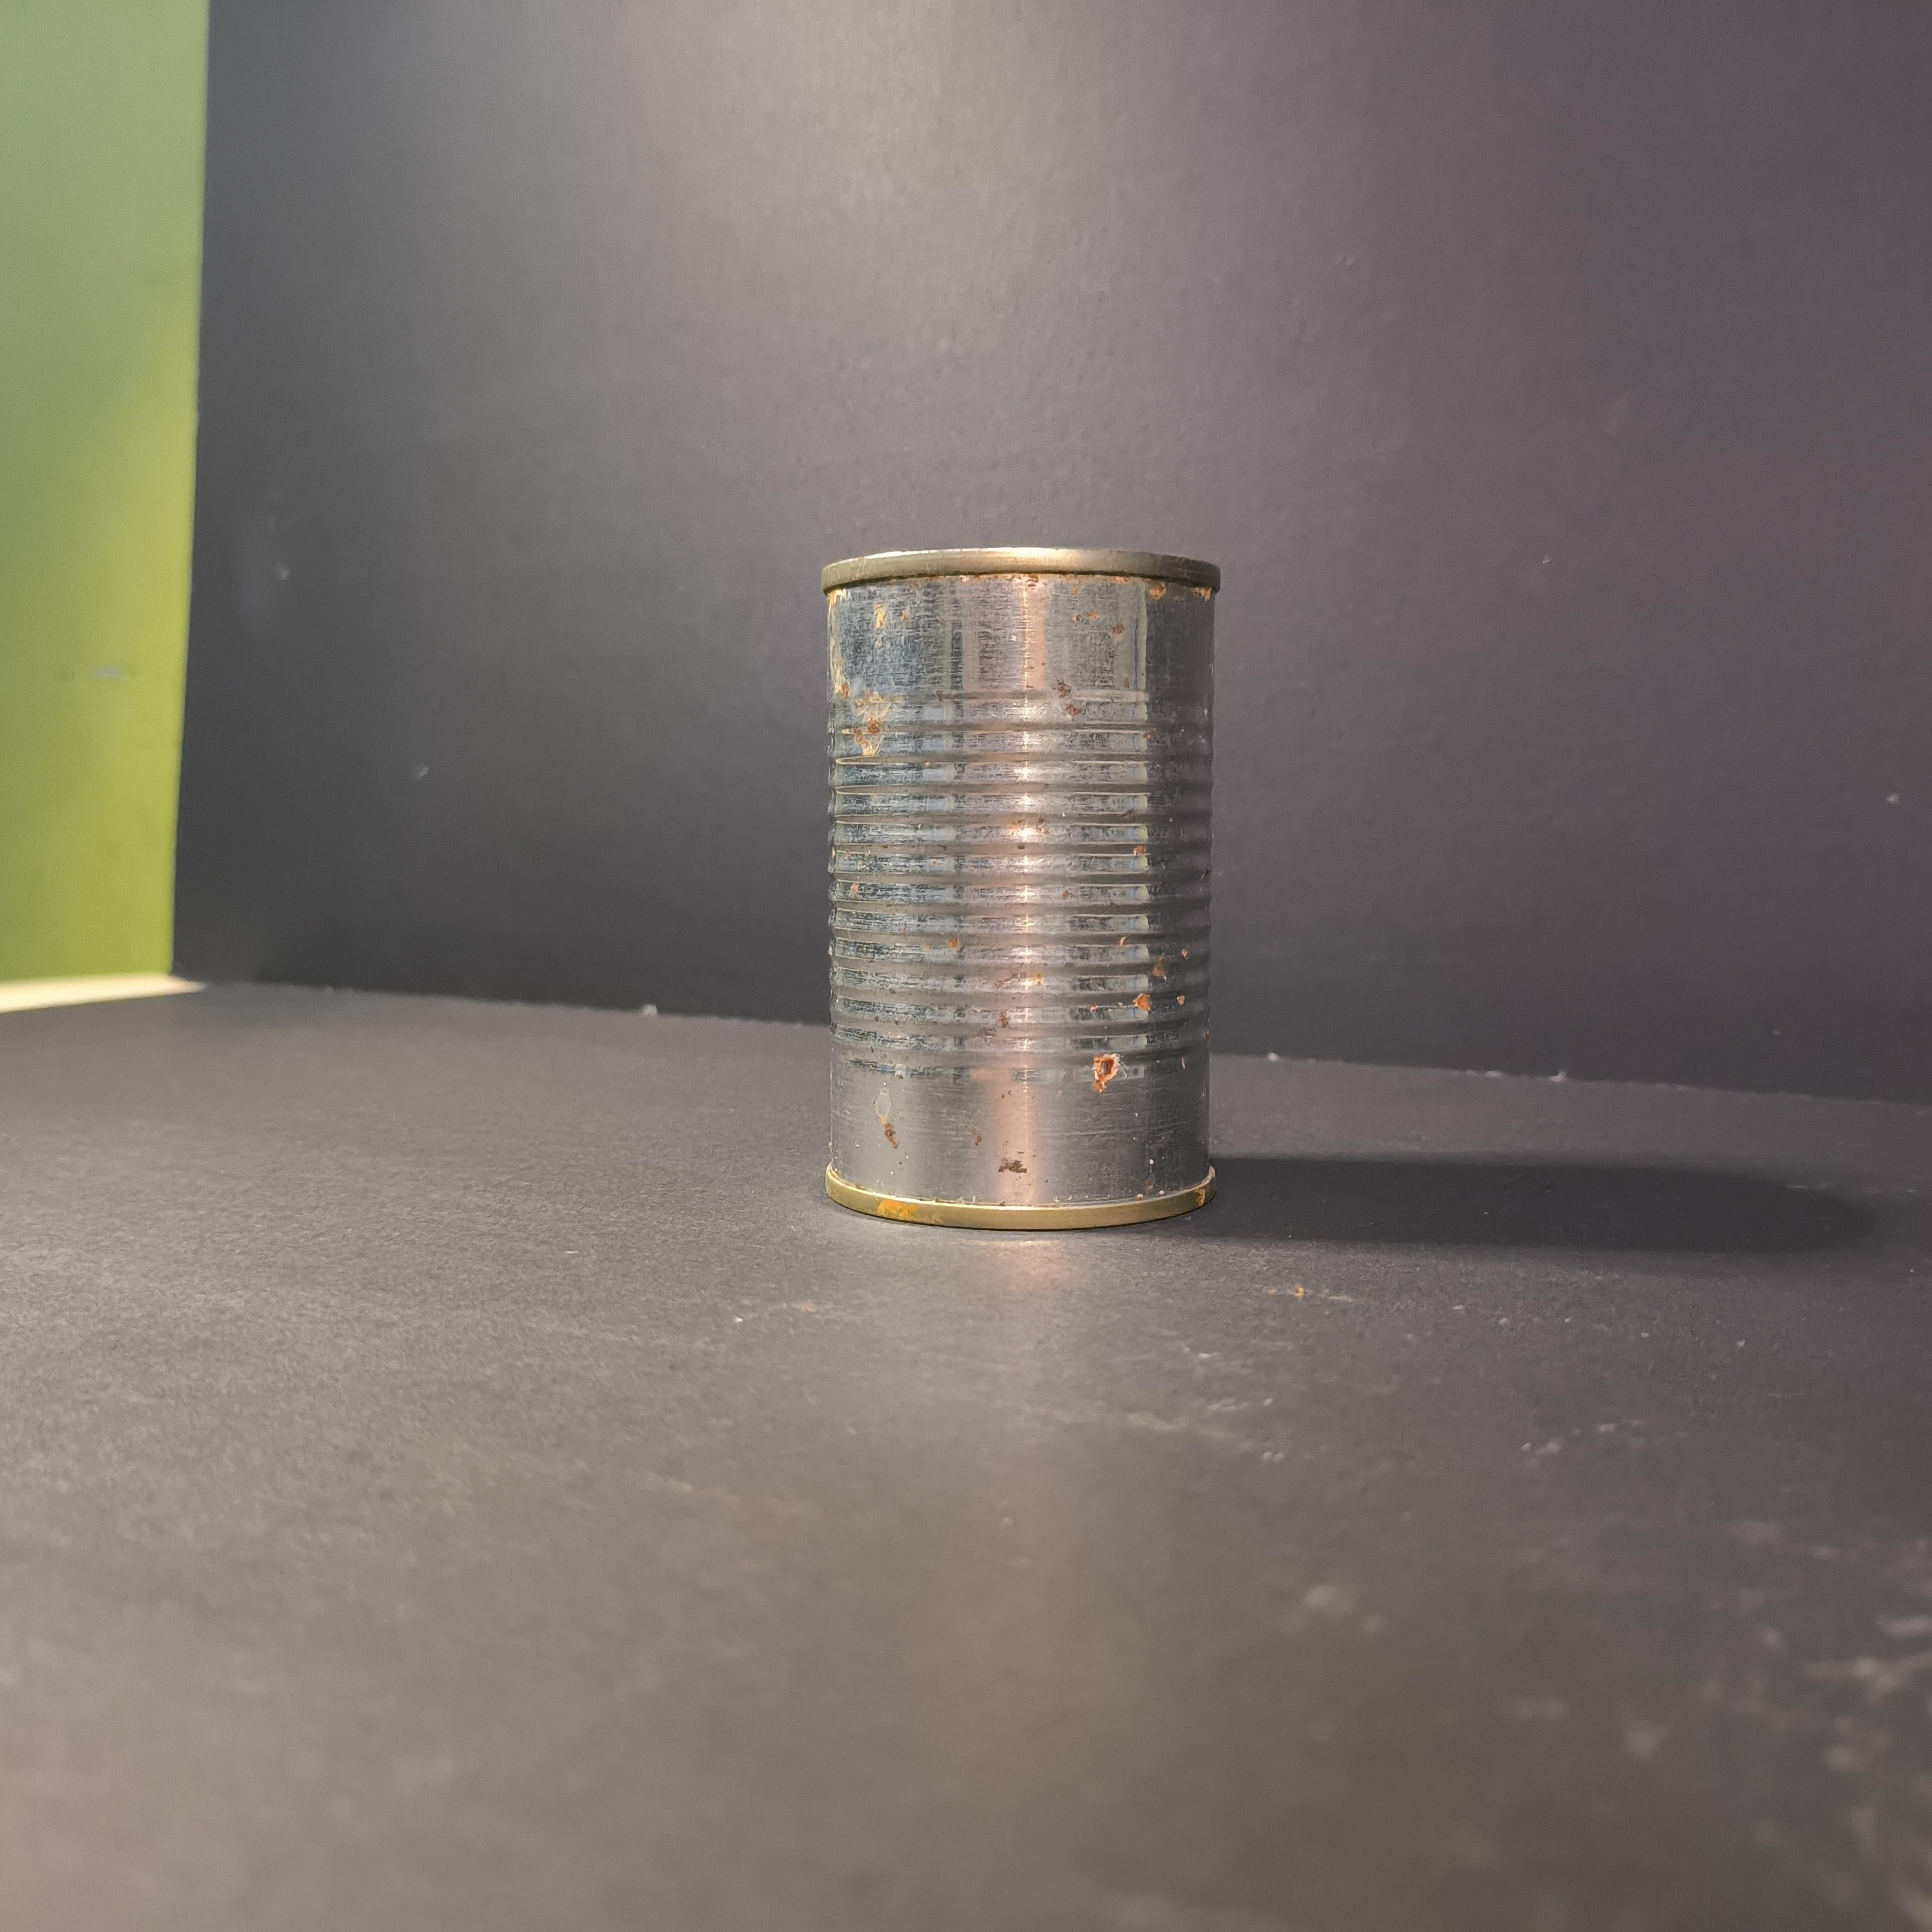Rusted: (803, 531, 1249, 1235)
